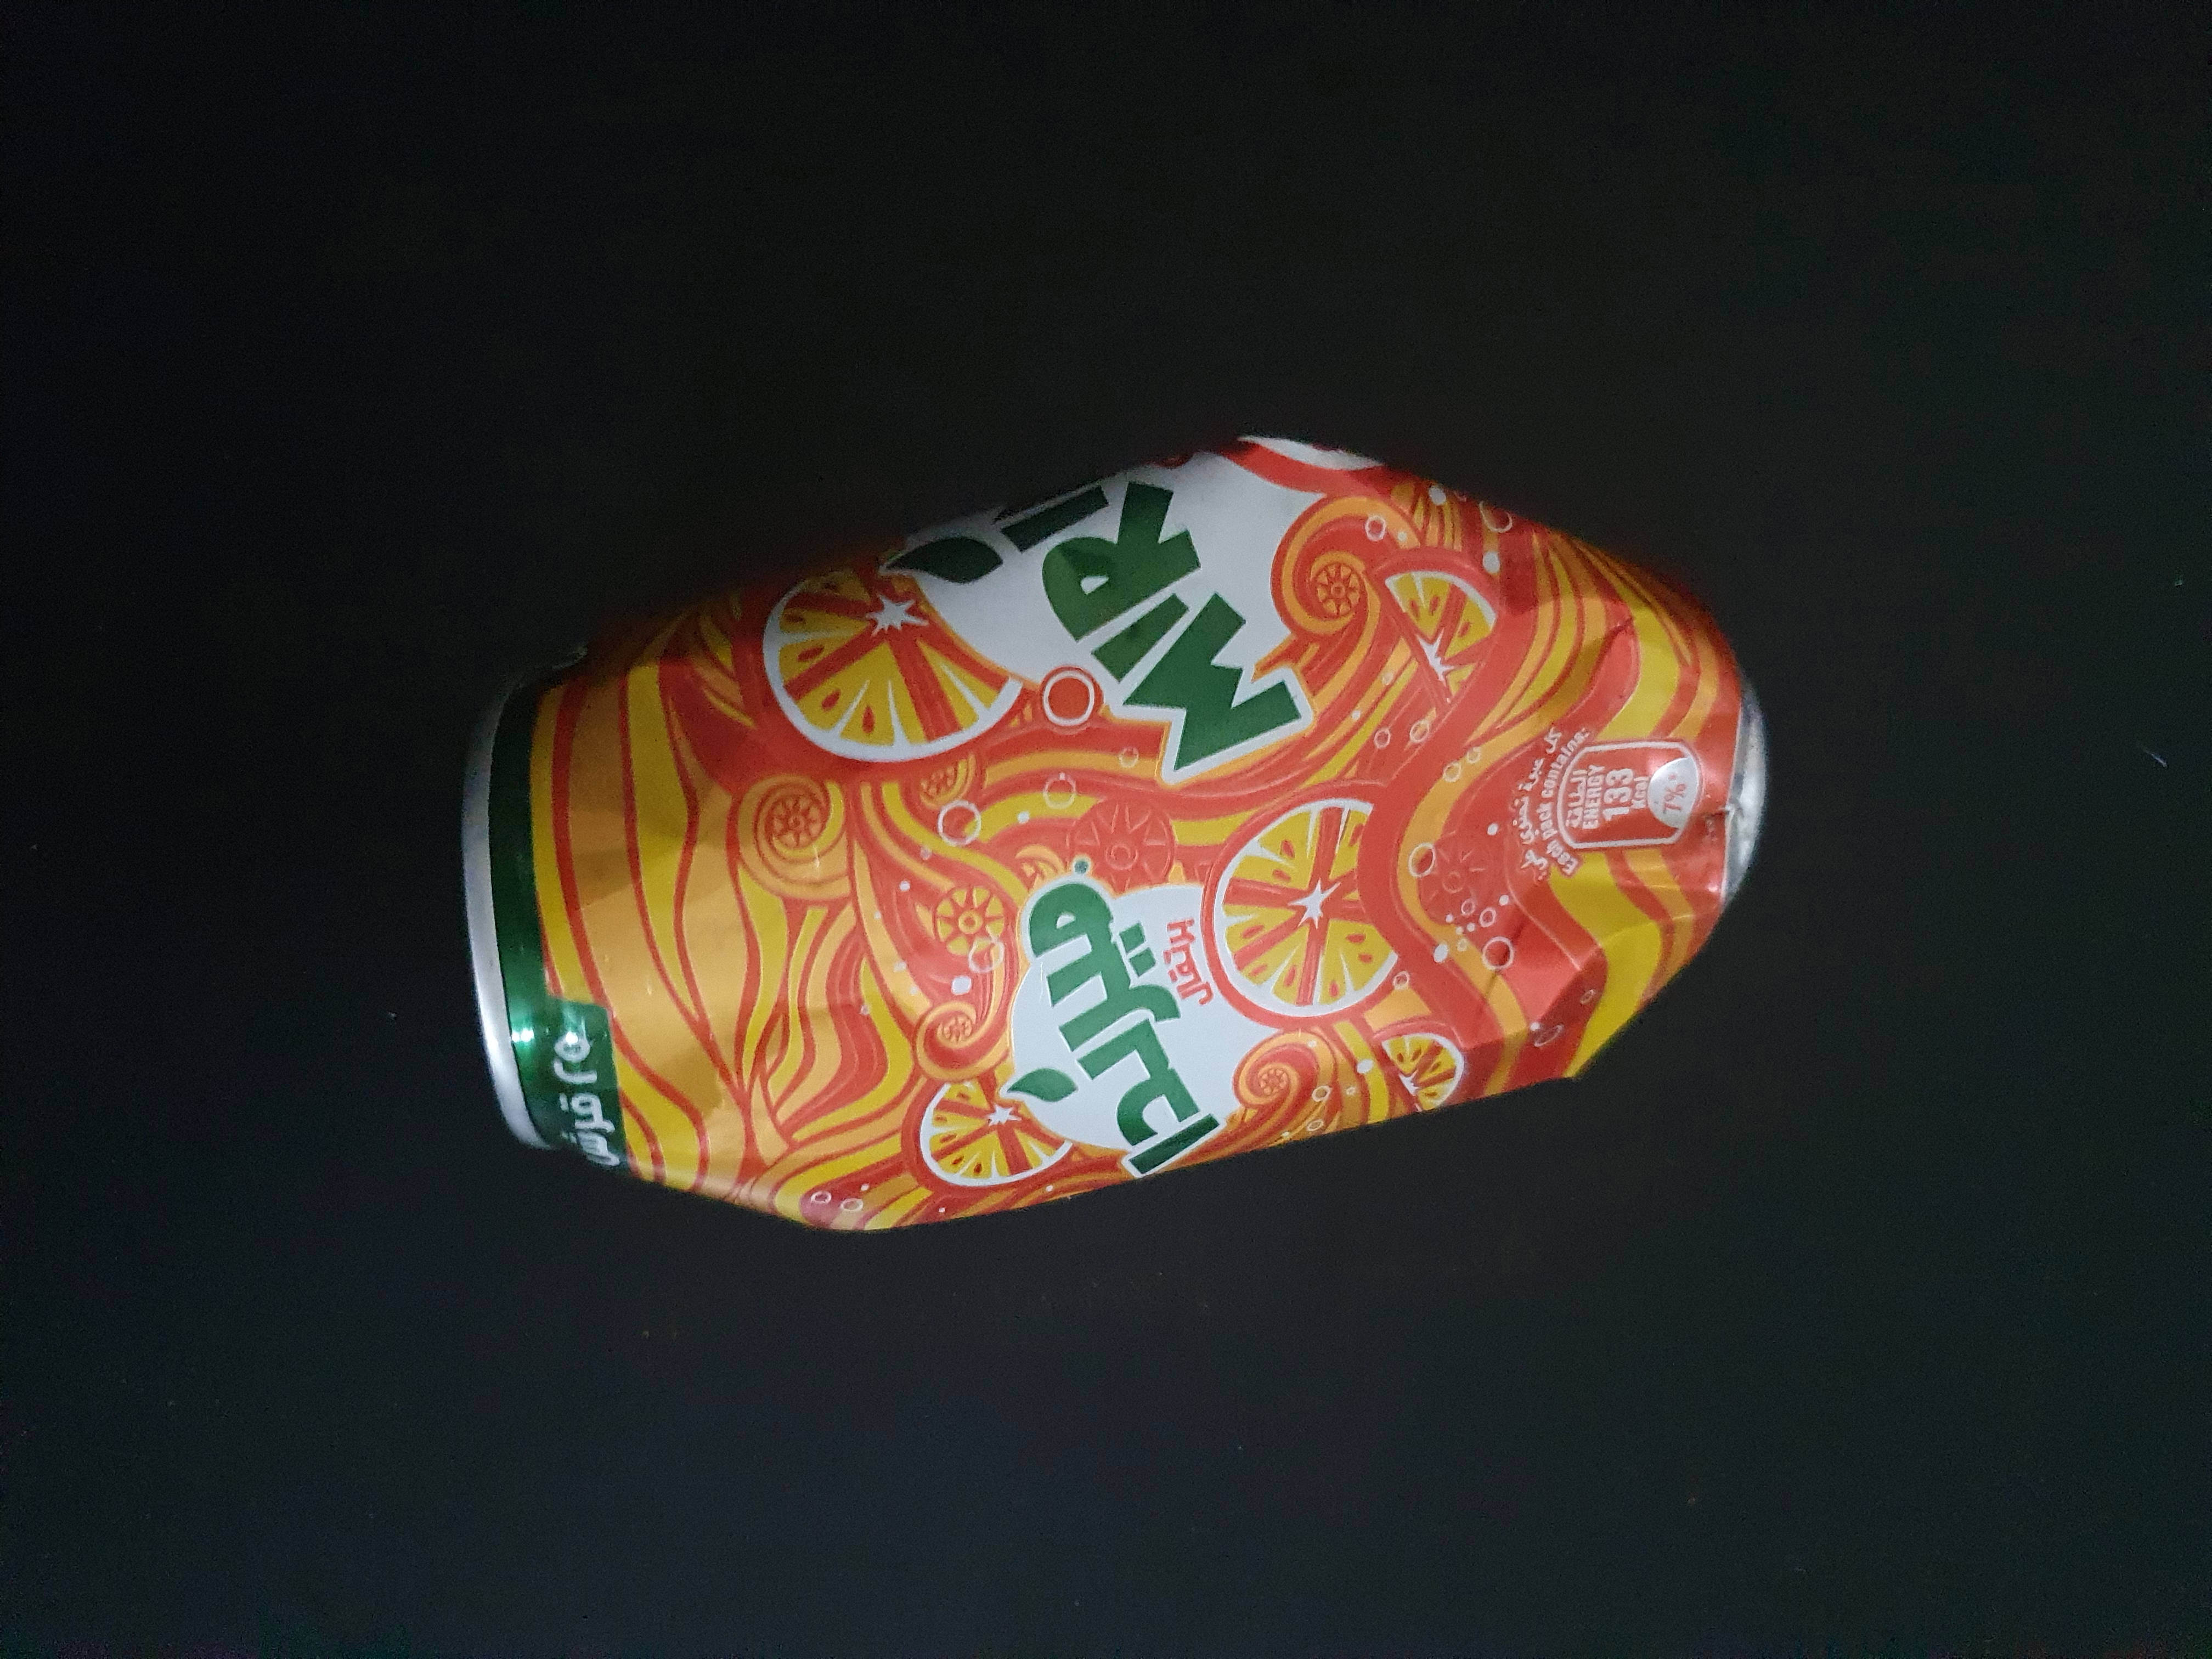metal: (388, 371, 1813, 1269)
